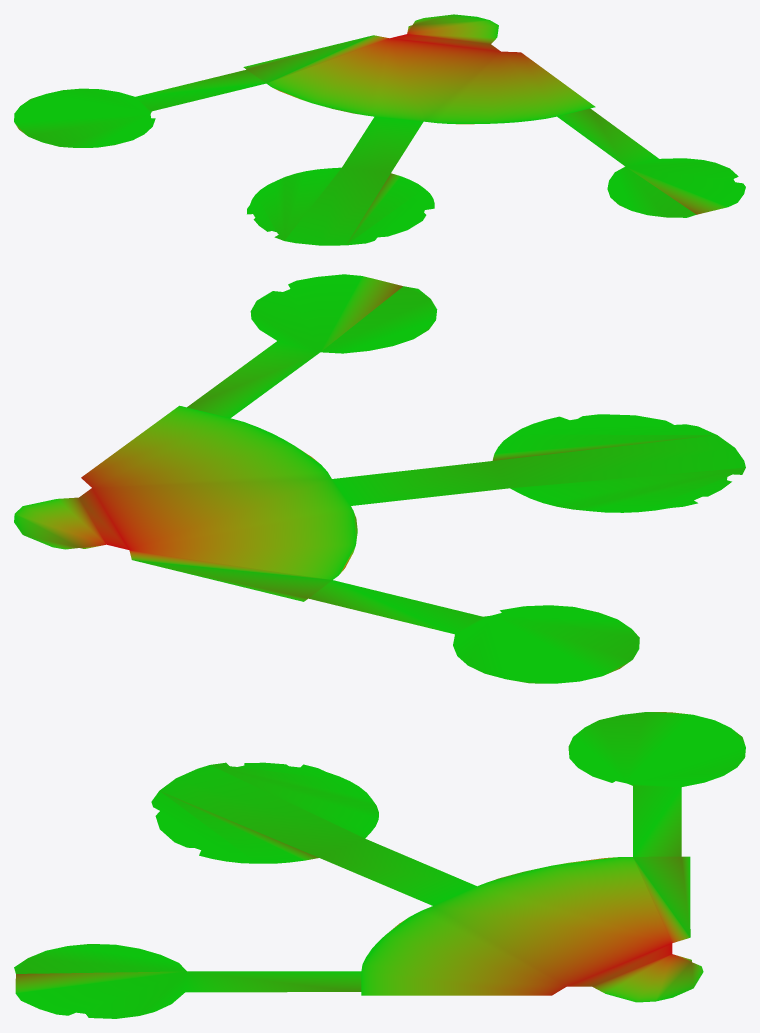
File: pref_sm_citypve_navmesh_fly_lv3.fbx
3 renders of one model, top to bottom at view 1: azimuth 30°, elevation 25°; view 2: azimuth 150°, elevation 25°; view 3: azimuth 270°, elevation 25°, orthographic. The views are drawn at different scales.
Visible parts, largest first — view 1: pref_sm_citypve_navmesh_fly_lv3; view 2: pref_sm_citypve_navmesh_fly_lv3; view 3: pref_sm_citypve_navmesh_fly_lv3.
Part boxes in pixels (<box>): pref_sm_citypve_navmesh_fly_lv3: <box>14,14,745,245</box>; pref_sm_citypve_navmesh_fly_lv3: <box>14,274,745,683</box>; pref_sm_citypve_navmesh_fly_lv3: <box>14,712,745,1018</box>.
Size of the model in its own units: 94.56 by 0.0151 by 95.29.
